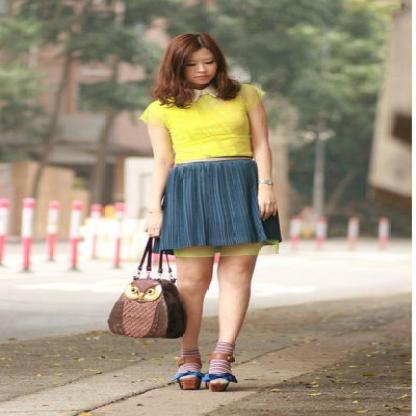bag: (107, 254, 186, 341)
shirt: (140, 84, 268, 162)
shoe: (176, 371, 237, 391)
skirt: (143, 147, 281, 257)
